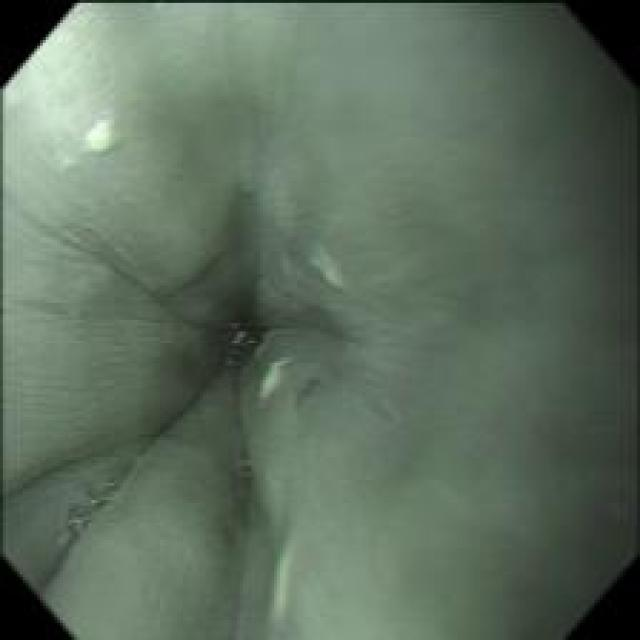blur: (0, 2, 636, 638)
bubbles: (62, 502, 94, 539), (81, 484, 106, 510), (106, 468, 125, 499)
color misalignment: (595, 485, 632, 535), (295, 376, 325, 411), (224, 328, 262, 355)
contrast: (534, 9, 638, 626), (201, 282, 292, 382)
